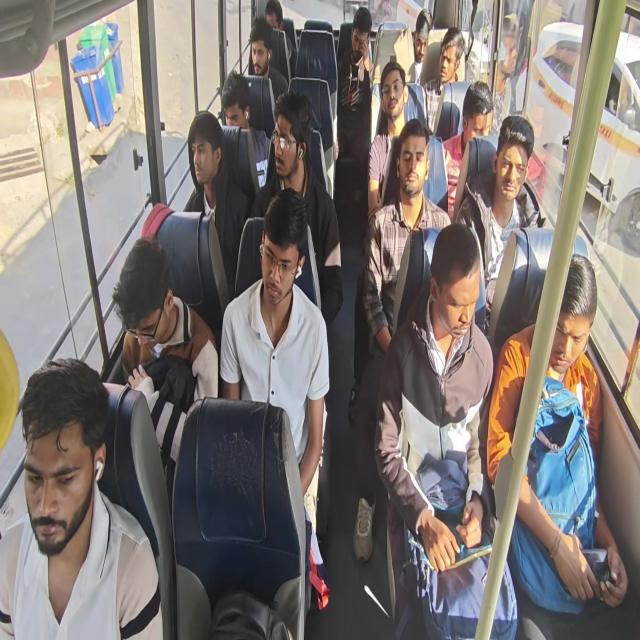person: (2, 3, 631, 638), (374, 222, 518, 638), (486, 252, 628, 614), (0, 356, 164, 639), (351, 118, 453, 562), (219, 188, 330, 537), (104, 234, 219, 512), (250, 90, 343, 324), (363, 118, 452, 355), (455, 114, 541, 335), (185, 110, 250, 299), (367, 61, 427, 224), (441, 80, 494, 220), (220, 70, 274, 197), (336, 6, 374, 162), (422, 26, 466, 136), (247, 16, 289, 119), (490, 13, 519, 135), (264, 0, 297, 83), (406, 8, 432, 86)
